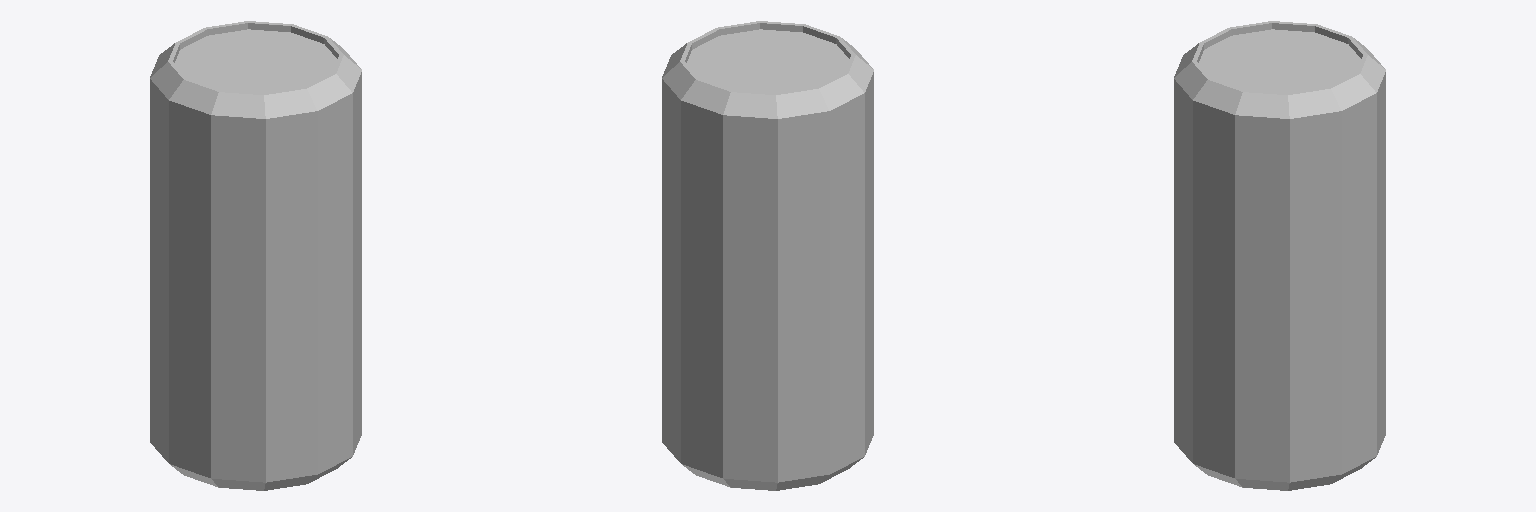
File: can_beer.obj
3 views of the same model, side by side, from view 1: azimuth 30°, elevation 25°; view 2: azimuth 150°, elevation 25°; view 3: azimuth 270°, elevation 25° (orthographic).
Visible parts, largest first — view 1: can_beer; view 2: can_beer; view 3: can_beer.
Part boxes in pixels (x1,y1,x2,y2): can_beer: (150,21,361,490); can_beer: (662,21,873,490); can_beer: (1174,21,1385,490).
Size of the model in its own units: 0.0729 by 0.1498 by 0.0729.